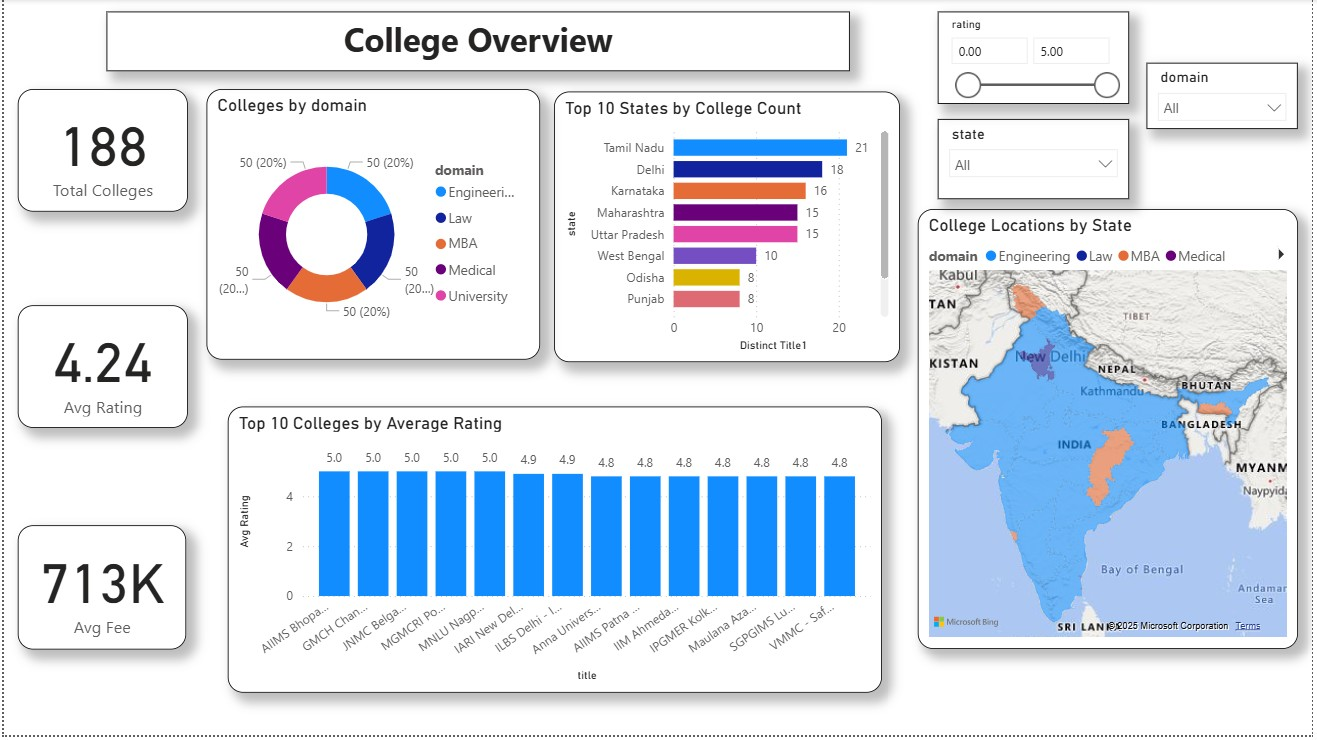

This screenshot's page, from the dashboard's own definition file:
{"tool":"powerbi","page":{"name":"Dashboard 1","canvas":[1280,720],"ordinal":13},"visuals":[{"type":"card","fields":{"Values":["careers360_colleges.Total Colleges"]},"box":[13.3,88.3,166.7,120],"z":0},{"type":"card","fields":{"Values":["careers360_colleges.Avg Rating"]},"box":[13.3,300,166.7,120],"z":1000},{"type":"card","fields":{"Values":["careers360_colleges.Avg Fee"]},"box":[13.3,515,165,121.7],"z":2000},{"type":"donutChart","title":" Colleges by domain","fields":{"Category":["careers360_colleges.domain"],"Y":["careers360_colleges.Total Colleges"]},"box":[198.3,88.3,326.7,265],"z":3000},{"type":"filledMap","title":"College Locations by State","fields":{"Category":["careers360_colleges.state"],"Series":["careers360_colleges.domain"]},"box":[893.3,205,371.7,430],"z":4000},{"type":"clusteredBarChart","title":"Top 10 States by College Count","fields":{"Category":["careers360_colleges.state"],"Y":["careers360_colleges.Distinct Title1"]},"box":[538.3,90,338.3,265],"z":5000},{"type":"clusteredColumnChart","title":"Top 10 Colleges by Average Rating","fields":{"Category":["careers360_colleges.title"],"Y":["careers360_colleges.Avg Rating"]},"box":[218.3,398.3,640,280],"z":6000},{"type":"slicer","fields":{"Values":["careers360_colleges.domain"]},"box":[1117.7,62.4,148,64.8],"z":7000},{"type":"slicer","fields":{"Values":["careers360_colleges.state"]},"box":[913.5,117.4,187.1,78.3],"z":8000},{"type":"slicer","fields":{"Values":["careers360_colleges.rating"]},"box":[913.5,12.2,187.1,90.5],"z":9000},{"type":"textbox","box":[100.3,12.2,727.6,58.7],"z":10000}]}

Visuals, with their boxes in screenshot pixels (x1, y1, x2, y2), scaled from the page's 1280x720 canvas onto the 1317x740 screenshot:
card - careers360_colleges.Total Colleges: Rect(14, 91, 185, 214)
card - careers360_colleges.Avg Rating: Rect(14, 308, 185, 432)
card - careers360_colleges.Avg Fee: Rect(14, 529, 183, 654)
" Colleges by domain" donutChart: Rect(204, 91, 540, 363)
"College Locations by State" filledMap: Rect(919, 211, 1302, 653)
"Top 10 States by College Count" clusteredBarChart: Rect(554, 92, 902, 365)
"Top 10 Colleges by Average Rating" clusteredColumnChart: Rect(225, 409, 883, 697)
slicer - careers360_colleges.domain: Rect(1150, 64, 1302, 131)
slicer - careers360_colleges.state: Rect(940, 121, 1132, 201)
slicer - careers360_colleges.rating: Rect(940, 13, 1132, 106)
textbox: Rect(103, 13, 852, 73)
